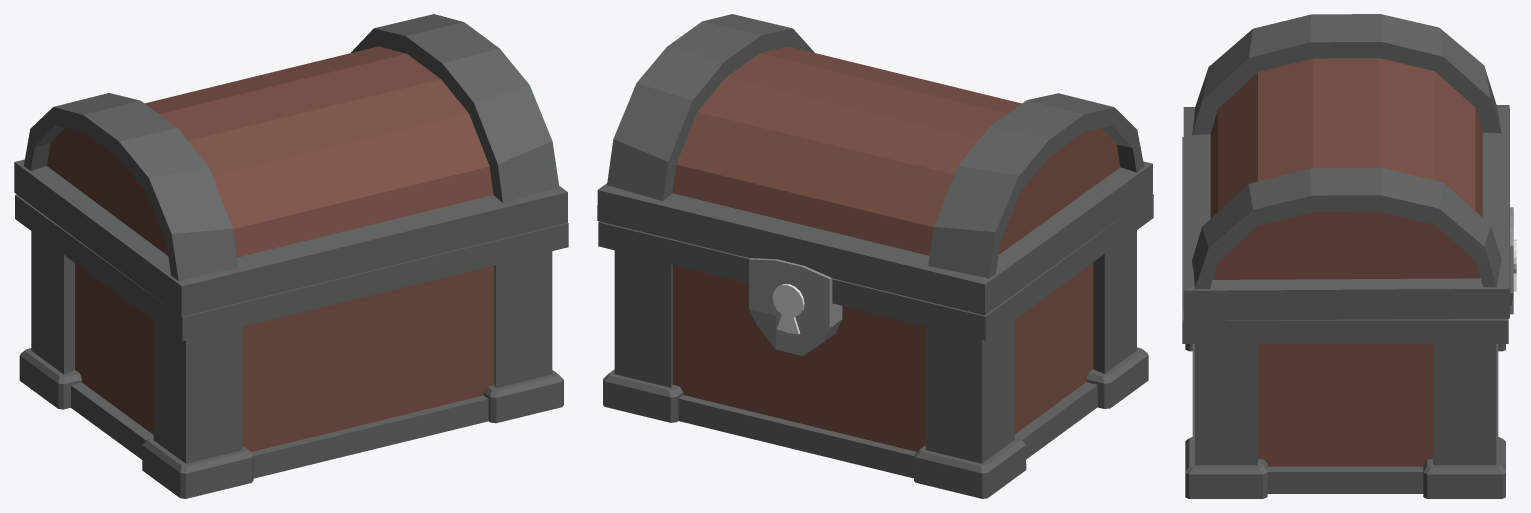
Rendered from Chest_closed.fbx.
3 views of the same model, side by side, from view 1: azimuth 30°, elevation 25°; view 2: azimuth 150°, elevation 25°; view 3: azimuth 270°, elevation 25° (orthographic). The views are drawn at different scales.
Parts seen in each view (by area): view 1: 뚜껑, 상자, 뚜껑기둥, 뚜껑아랫면, 상자기둥, 상자윗면, 상자아랫면, 상자기둥2; view 2: 뚜껑, 상자, 뚜껑기둥, 뚜껑아랫면, 상자기둥, 상자윗면, 상자아랫면, 상자기둥2, 자물쇠, 자물쇠구멍2; view 3: 뚜껑, 뚜껑기둥, 상자, 뚜껑아랫면, 상자기둥, 상자윗면, 상자기둥2, 상자아랫면, 자물쇠.
Part boxes in pixels (x1,y1,x2,y2): 뚜껑: (47, 46, 493, 257); 상자: (75, 263, 493, 451); 뚜껑기둥: (23, 14, 559, 280); 뚜껑아랫면: (14, 159, 567, 316); 상자기둥: (31, 231, 552, 463); 상자윗면: (15, 194, 568, 341); 상자아랫면: (71, 382, 488, 478); 상자기둥2: (19, 348, 563, 498); 뚜껑: (672, 46, 1120, 255); 상자: (673, 262, 1093, 451); 뚜껑기둥: (607, 14, 1144, 278); 뚜껑아랫면: (597, 161, 1152, 315); 상자기둥: (614, 230, 1136, 463); 상자윗면: (598, 194, 1153, 340); 상자아랫면: (678, 382, 1097, 478); 상자기둥2: (603, 347, 1148, 498); 자물쇠: (749, 258, 842, 355); 자물쇠구멍2: (772, 284, 804, 334); 뚜껑: (1210, 58, 1482, 279); 뚜껑기둥: (1192, 14, 1501, 288); 상자: (1258, 344, 1432, 466); 뚜껑아랫면: (1183, 105, 1509, 320); 상자기둥: (1195, 344, 1496, 465); 상자윗면: (1182, 137, 1508, 343); 상자기둥2: (1185, 344, 1505, 498); 상자아랫면: (1192, 344, 1498, 493); 자물쇠: (1510, 207, 1513, 314).
Size of the model in its own units: 111 by 85.15 by 85.02.
